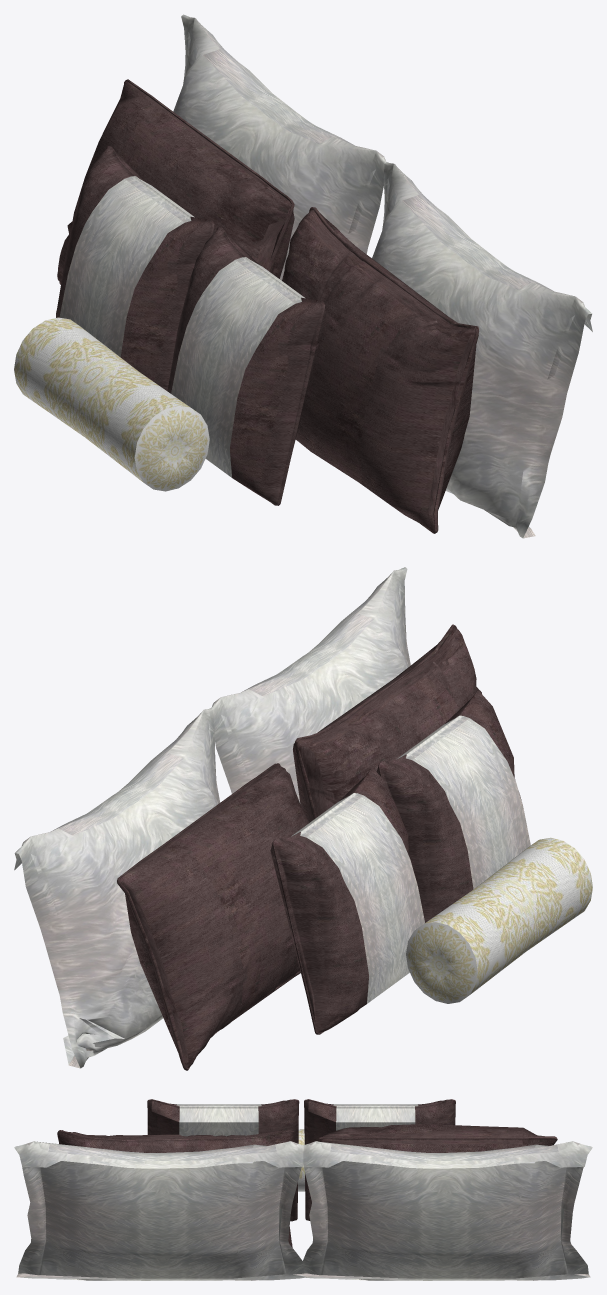
3 renders of one model, top to bottom at view 1: azimuth 30°, elevation 25°; view 2: azimuth 150°, elevation 25°; view 3: azimuth 270°, elevation 25°, orthographic. The views are drawn at different scales.
Visible parts, largest first — view 1: 对象009; view 2: 对象009; view 3: 对象009.
Part boxes in pixels (box(x1,y1,x2,y2)): 对象009: box(14, 14, 592, 538); 对象009: box(14, 567, 592, 1070); 对象009: box(14, 1099, 592, 1280).
Bounding box in the file's own units: 89.17 × 57.41 × 186.
